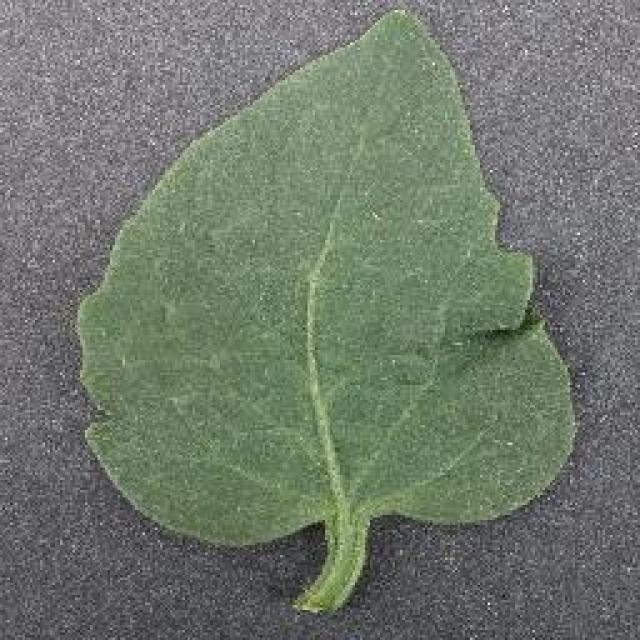healthy: (77, 5, 574, 614)
